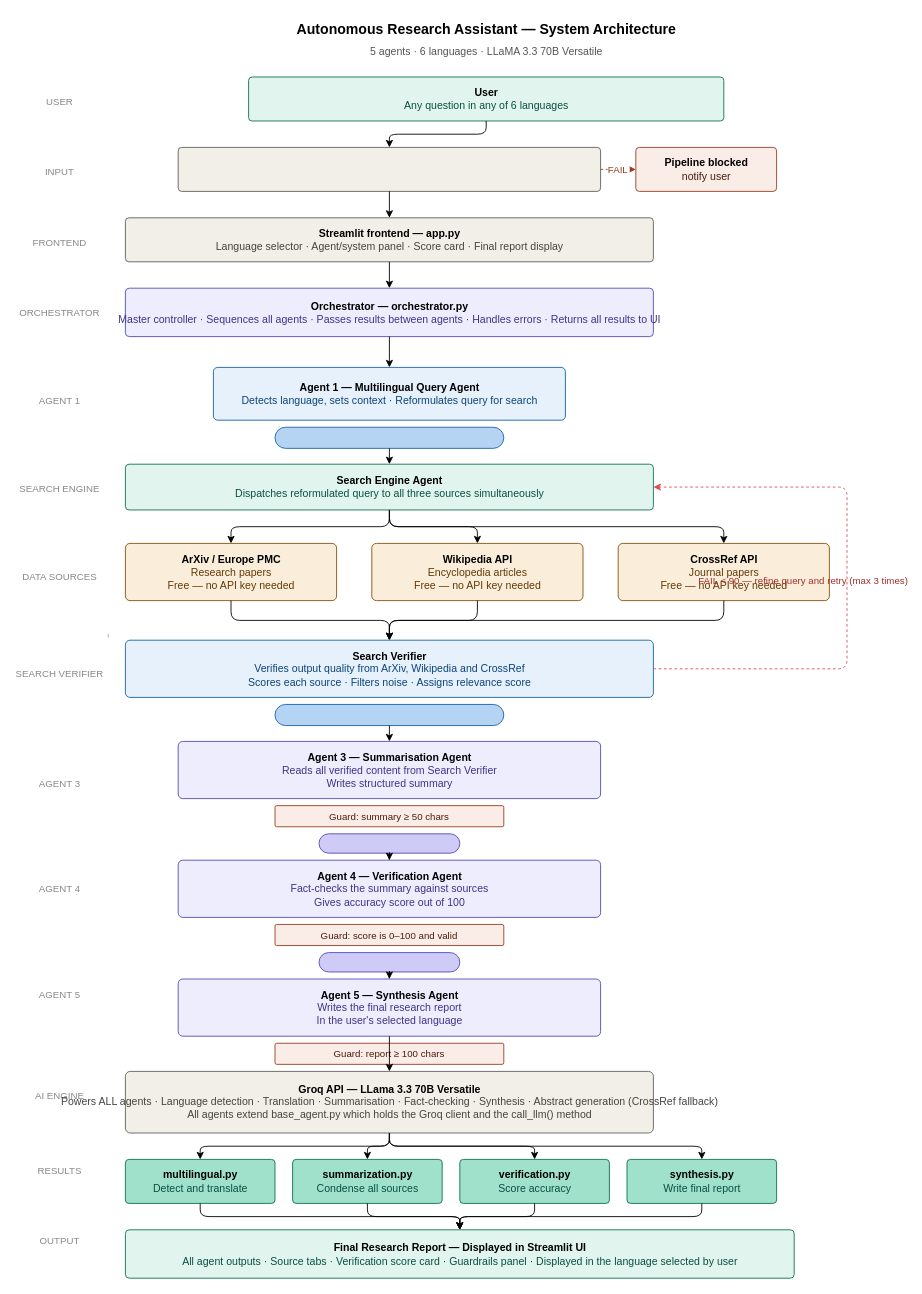
This 922x1294 diagram has some shape labels left out. The shapes that lost their labels are listed below. From the top down, each one's centre as x and y in pixels, then its label:
At pixel 389 169: "Input handler — input_guard.py Check: empty · not blank · too-long · format".
At pixel 389 437: "Reformulated query →".
At pixel 389 715: "Verified results + scores →".
At pixel 389 843: "summary →".
At pixel 389 962: "verified →".
